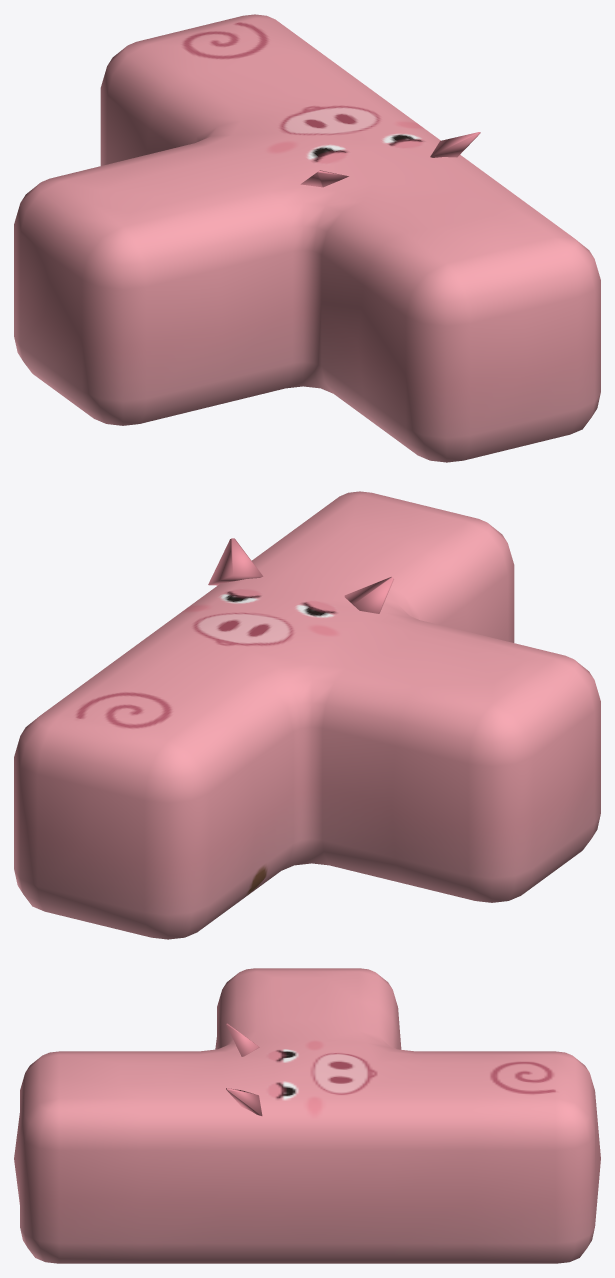
File: Pig_T.fbx
3 views of the same model, one above another, from view 1: azimuth 30°, elevation 25°; view 2: azimuth 150°, elevation 25°; view 3: azimuth 270°, elevation 25° (orthographic). The views are drawn at different scales.
Parts seen in each view (by area): view 1: Pig_T; view 2: Pig_T; view 3: Pig_T.
Boxes of the visible parts, x1,y1,x2,y2 form: Pig_T: [14, 14, 600, 462]; Pig_T: [14, 491, 600, 939]; Pig_T: [14, 968, 600, 1263].
Size of the model in its own units: 1.98 by 0.9771 by 2.98.
1 material, 1 textured.
